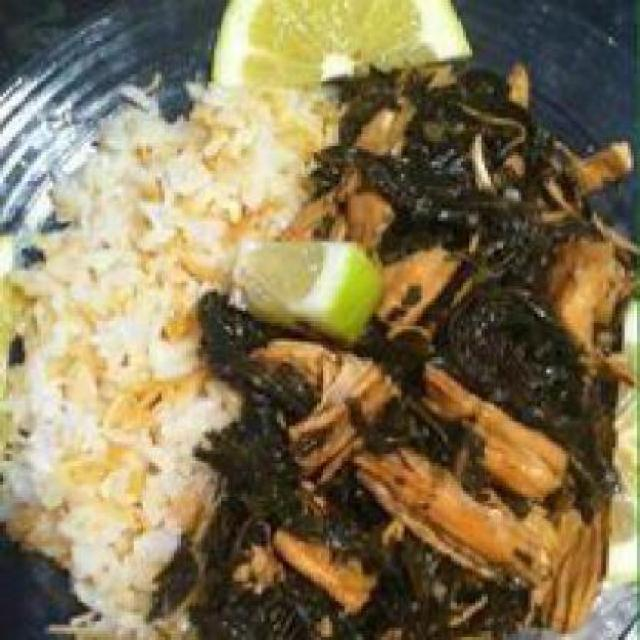molokhia: (274, 65, 609, 637)
